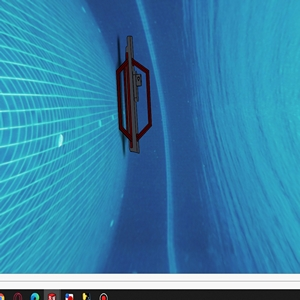submarine: (115, 36, 152, 154)
